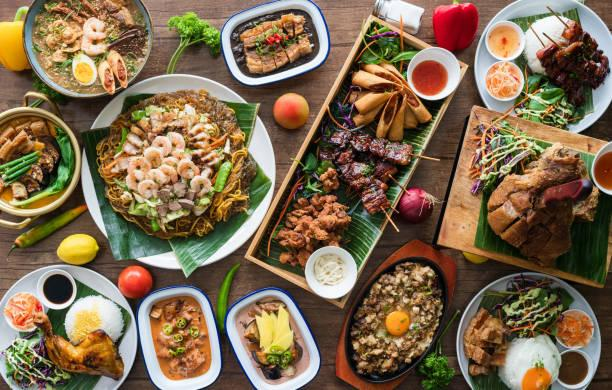Braised Crucian Carp: (247, 16, 469, 306), (83, 73, 271, 269), (438, 106, 612, 286), (473, 0, 611, 133), (0, 263, 137, 389), (453, 272, 599, 389), (342, 253, 447, 382), (22, 0, 150, 98), (2, 94, 81, 225), (224, 285, 321, 389), (219, 0, 329, 87), (137, 284, 223, 390)
